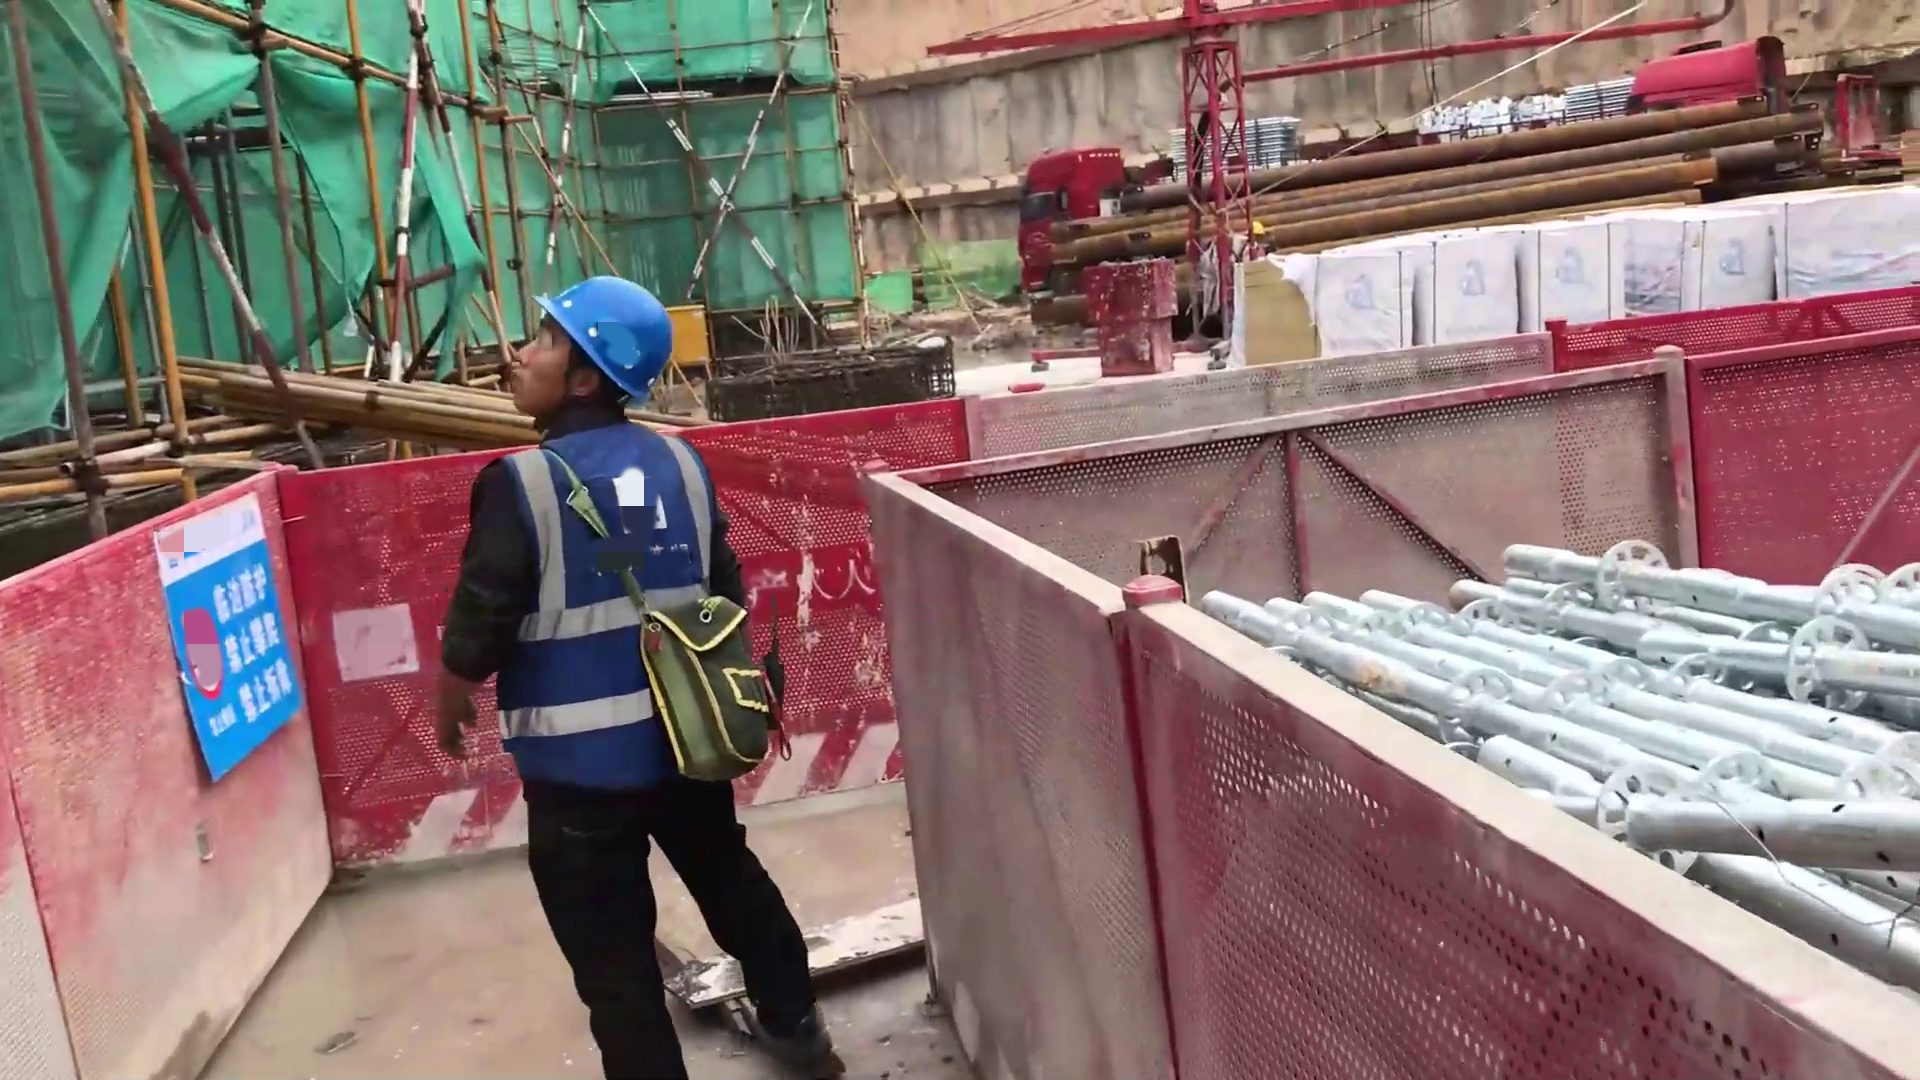ebox: (668, 300, 719, 385)
fence: (5, 468, 319, 1079)
helmet: (527, 274, 676, 410)
person: (432, 274, 845, 1080)
scaffold: (1480, 544, 1920, 913)
slogan: (147, 494, 332, 794)
vest: (491, 420, 737, 807)
